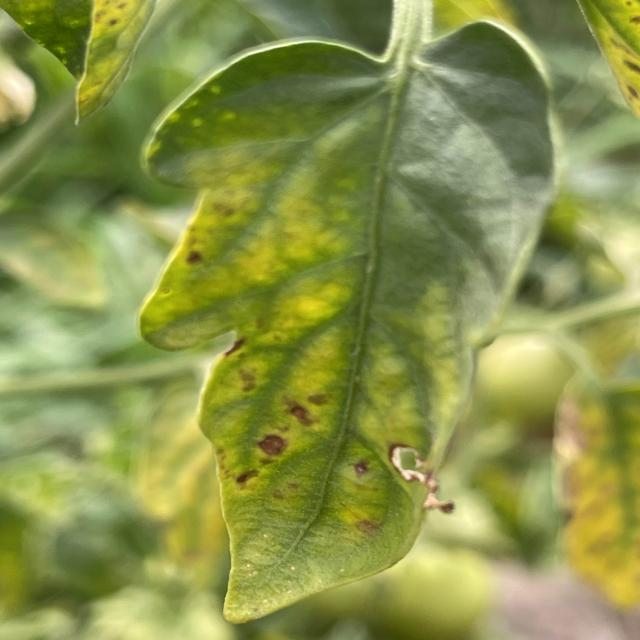tomato_early blight: (140, 12, 556, 623), (546, 366, 640, 606), (0, 0, 160, 124)
